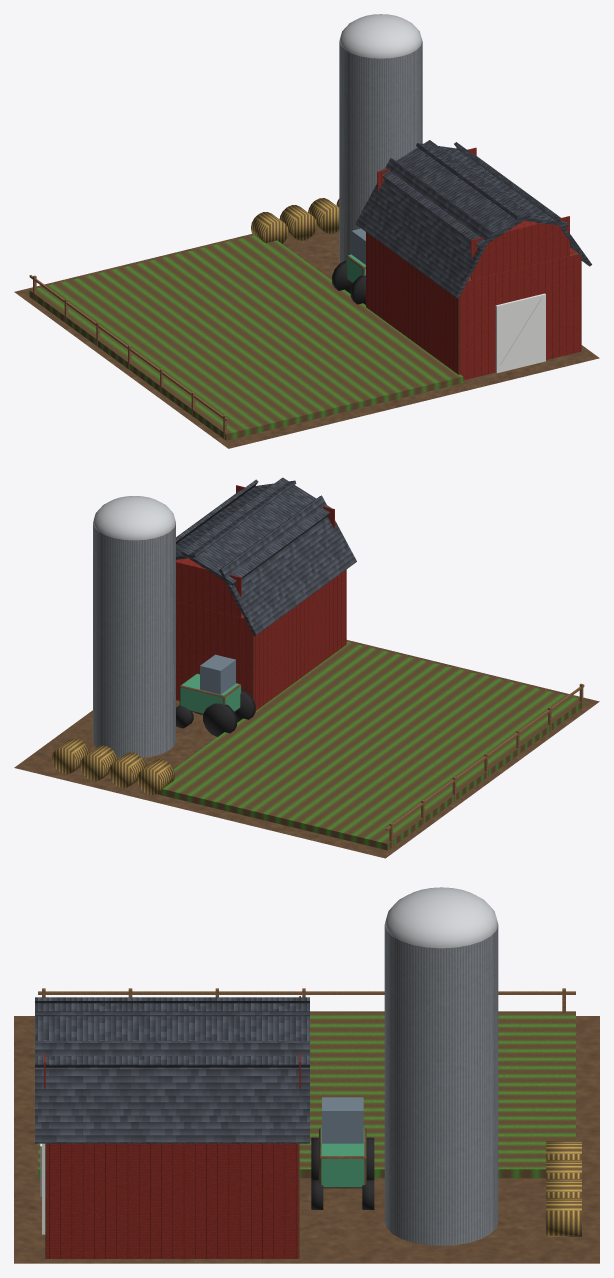
Rendered from farm_1.gltf.
3 renders of one model, top to bottom at view 1: azimuth 30°, elevation 25°; view 2: azimuth 150°, elevation 25°; view 3: azimuth 270°, elevation 25°, orthographic. The views are drawn at different scales.
Parts seen in each view (by area): view 1: farm_1; view 2: farm_1; view 3: farm_1.
Part boxes in pixels (x1,y1,x2,y2): farm_1: (14, 14, 599, 448); farm_1: (14, 477, 599, 858); farm_1: (14, 887, 599, 1263).
Size of the model in its own units: 3.92 by 2.41 by 3.92.
12 materials, 8 textured.
